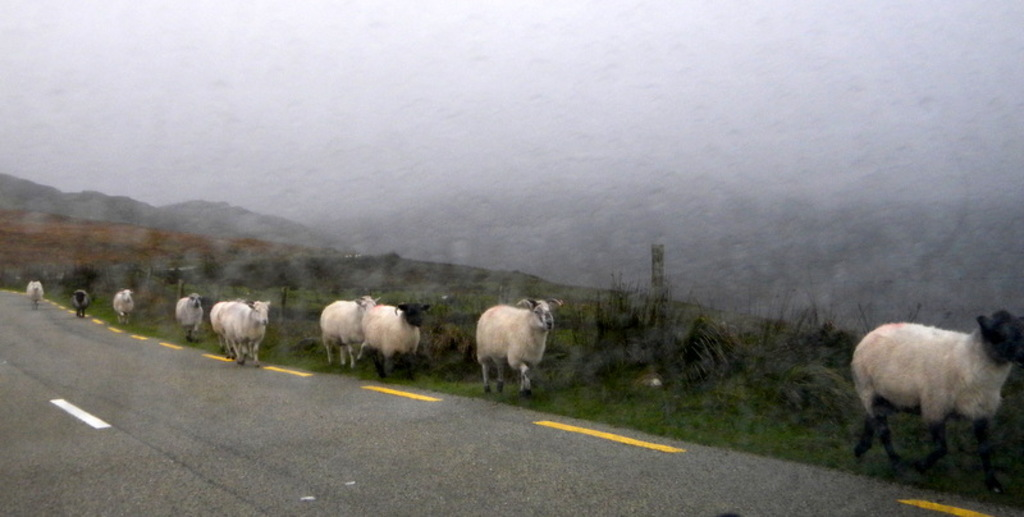sheep: (477, 300, 565, 397), (360, 303, 427, 381), (217, 299, 272, 365), (175, 293, 200, 342), (111, 289, 134, 321), (26, 278, 44, 307), (70, 289, 90, 314)
